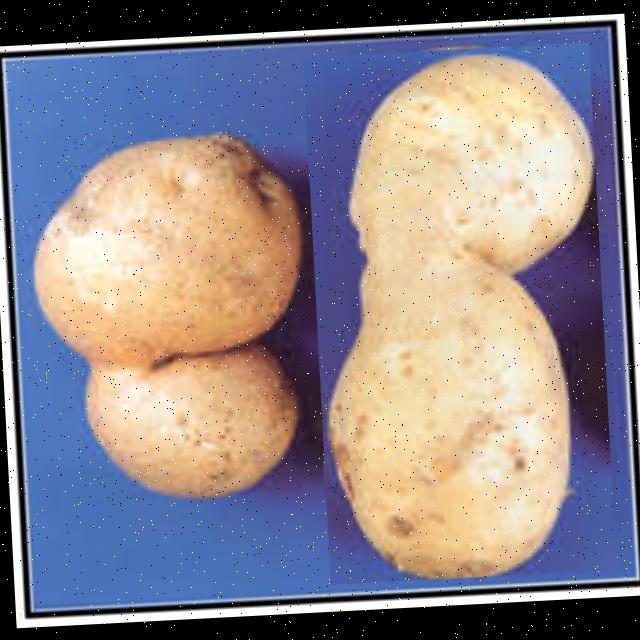Damaged potato: (302, 41, 616, 584), (25, 134, 327, 524)
